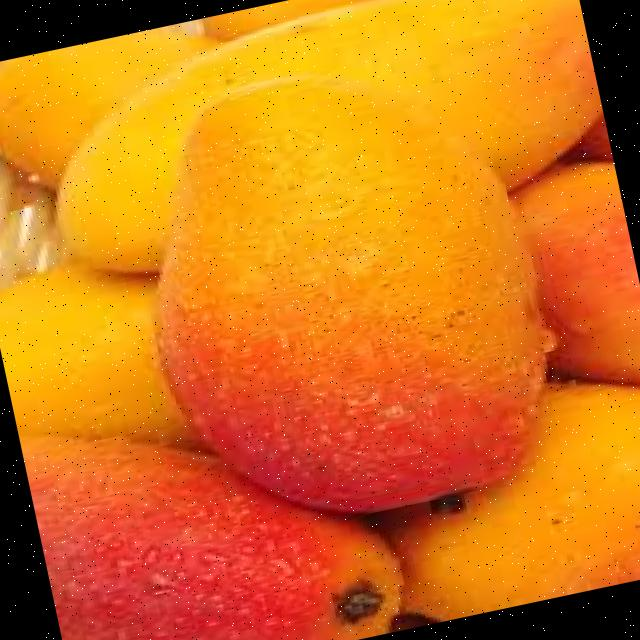mango: (160, 77, 549, 516)
